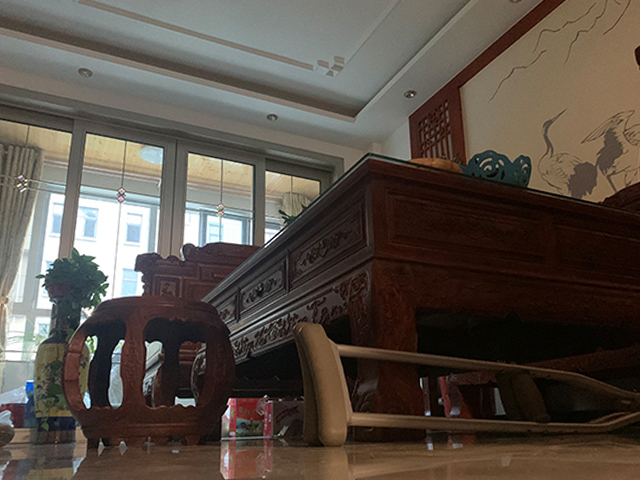stool: (60, 294, 237, 448)
table: (191, 152, 640, 445)
